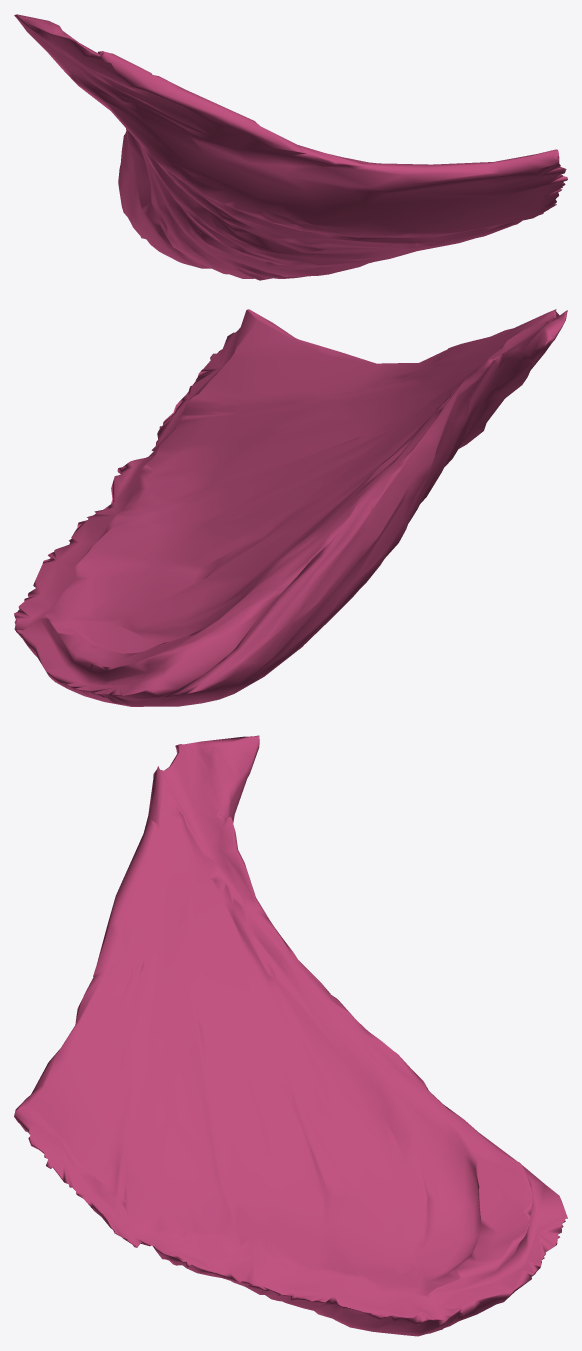
The picture shows the model from 3 angles, top to bottom: view 1: azimuth 30°, elevation 25°; view 2: azimuth 150°, elevation 25°; view 3: azimuth 270°, elevation 25°; orthographic projection. The views are drawn at different scales.
Parts seen in each view (by area): view 1: 右侧胸大肌胸肋部; view 2: 右侧胸大肌胸肋部; view 3: 右侧胸大肌胸肋部.
Boxes of the visible parts, <box> form: 右侧胸大肌胸肋部: <box>14,14,567,280</box>; 右侧胸大肌胸肋部: <box>14,309,567,706</box>; 右侧胸大肌胸肋部: <box>14,735,567,1336</box>.
Bounding box in the file's own units: 0.28 × 0.2096 × 0.2684.
